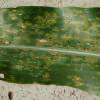Corn rust leaf: (0, 6, 99, 96)
